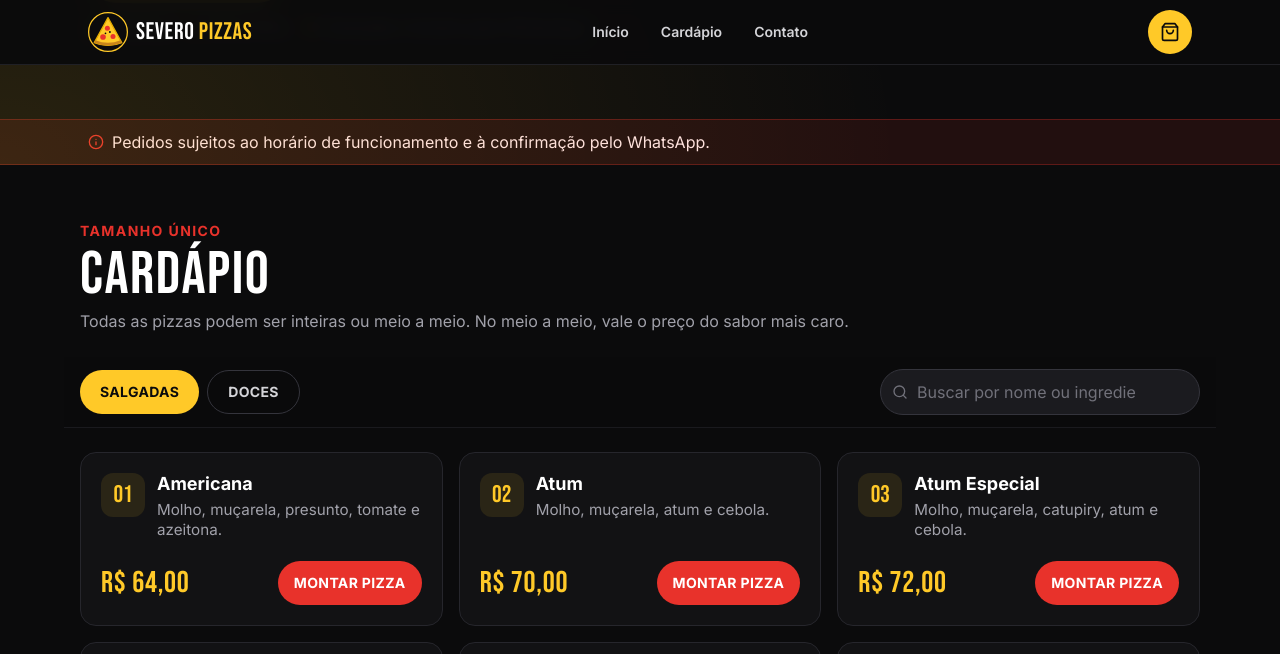
Test: busca no cardápio › busca por ingrediente, sem diferenciar maiúsculas e acentos
(page scrolled)
Type "MUCARELA, RUCULA" into the search field labelled "Buscar por nome ou ingrediente" at (1040, 392), box [880,369,1200,415]
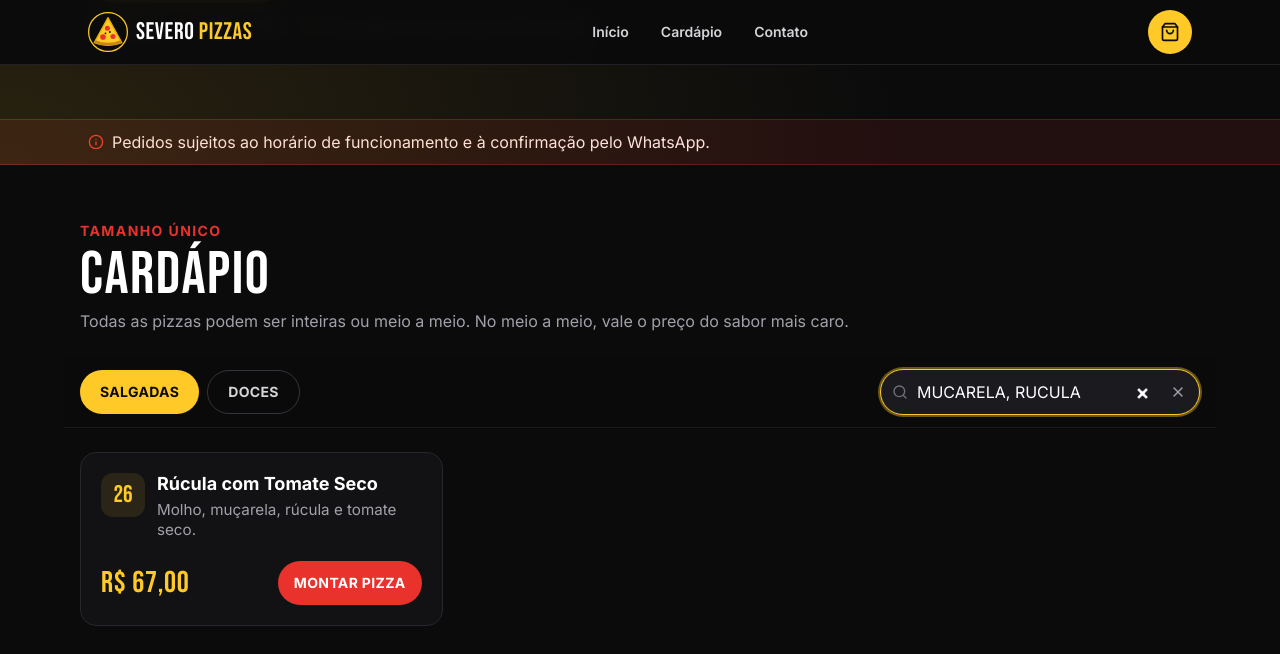
Check: the headings read "Rúcula com Tomate Seco", in this order, box [157,473,378,494]
Replace the text in the search field named "Buscar por nome ou ingrediente" with "xyz" at (1040, 392), box [880,369,1200,415]
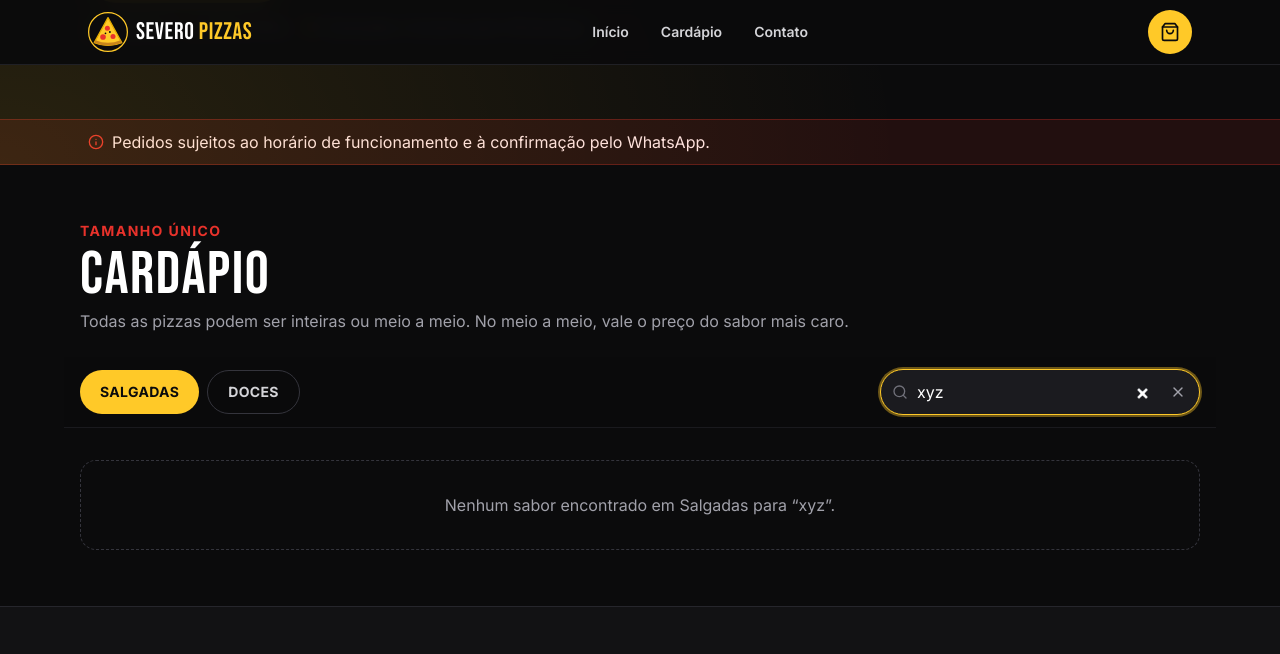
Check: the text "Nenhum sabor encontrado em Salgadas para “xyz”." is shown, box [445,495,835,515]
